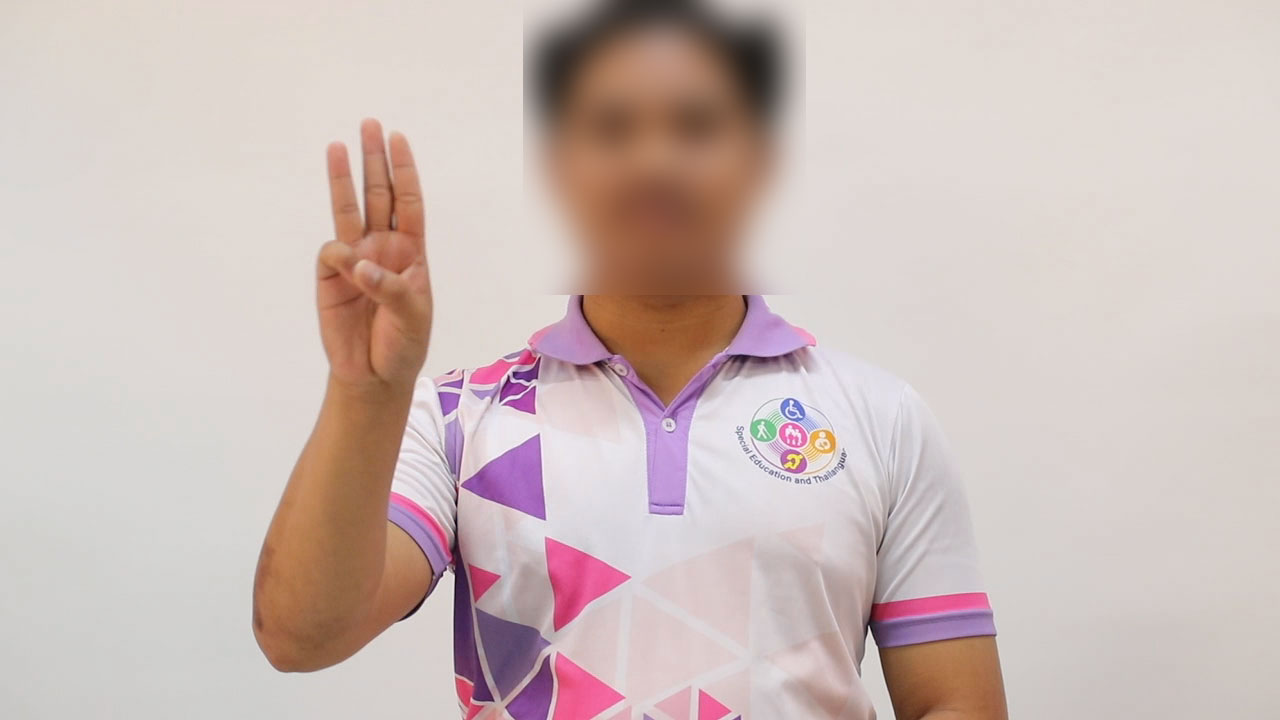wor: (302, 110, 440, 393)
